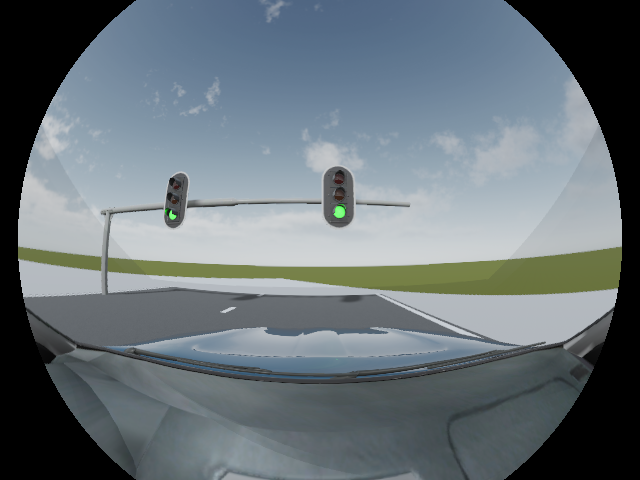Green Light: (324, 166, 356, 229), (166, 173, 188, 228)
